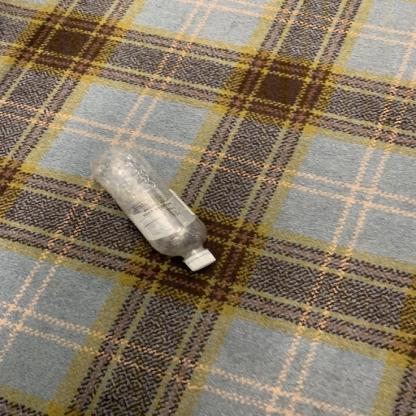trash: (87, 146, 218, 277)
